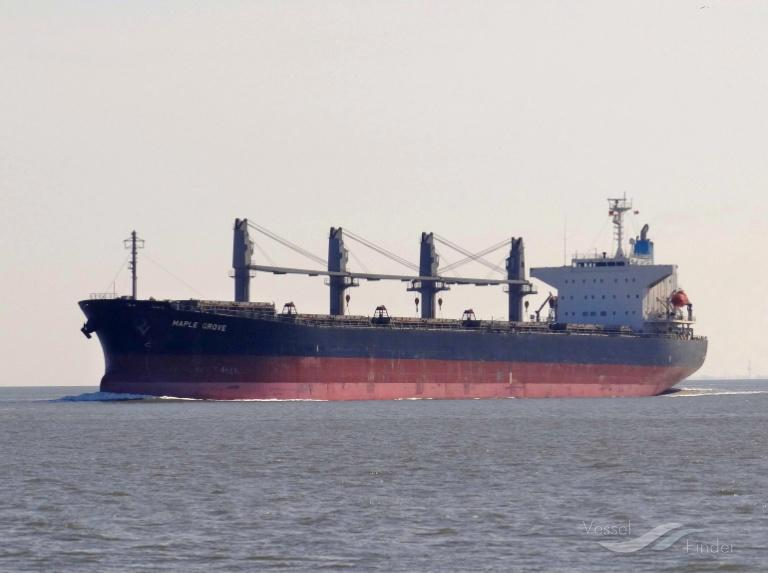OCR: (172, 312, 229, 336)
